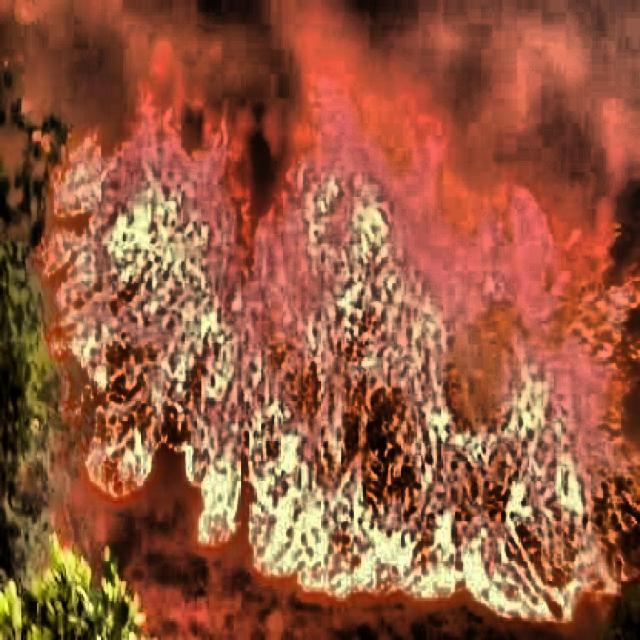Fire: (47, 53, 640, 622)
